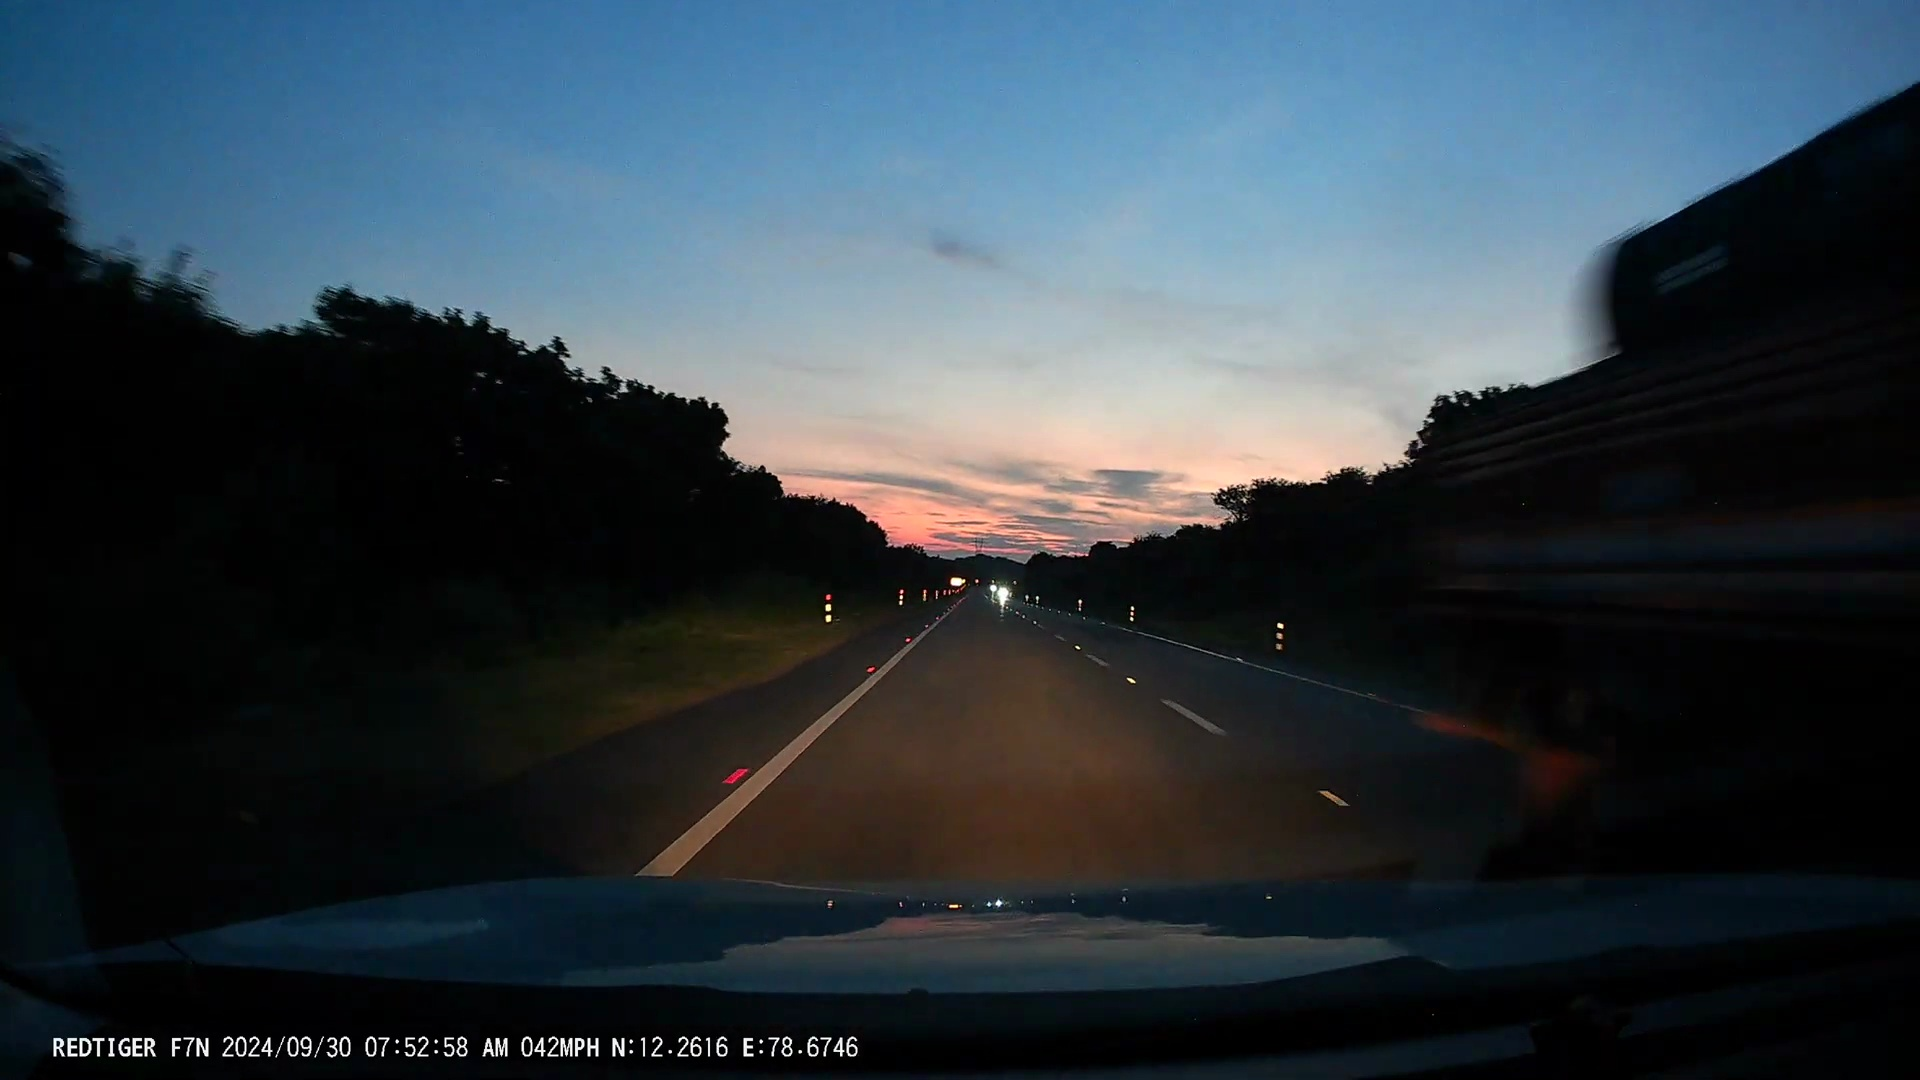headlight: (998, 587, 1010, 600), (988, 583, 997, 595)
two wheeler: (984, 578, 1014, 607)
